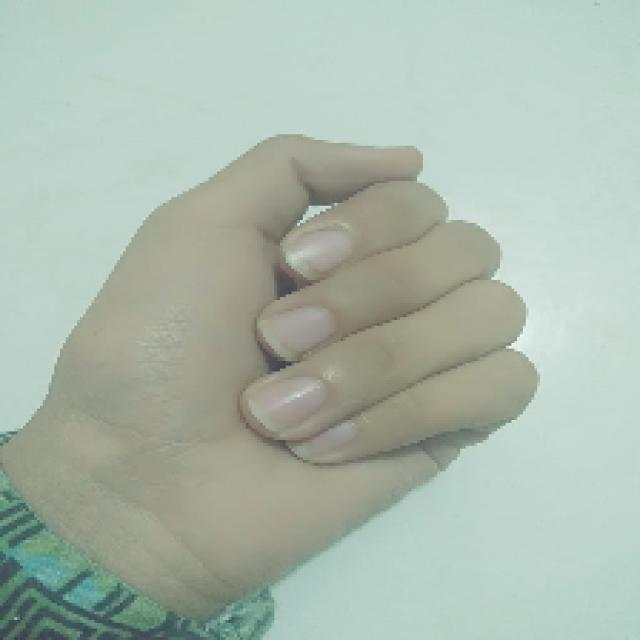Nail: (248, 376, 326, 433), (259, 305, 336, 360), (284, 227, 352, 281), (290, 420, 358, 460)
